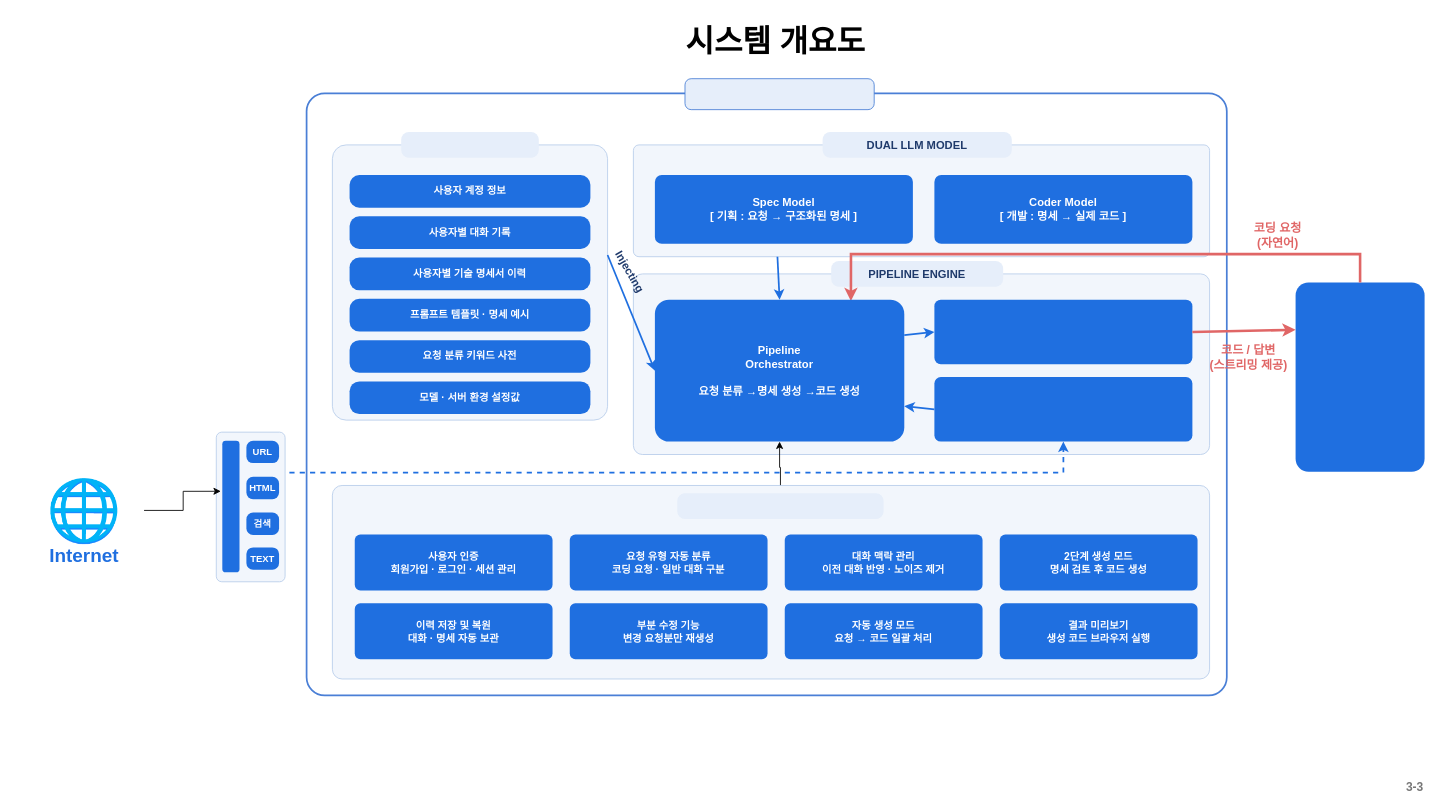
Image size: 1439x812. Some labels were removed from this diagram. The centre of each missing label's shape, as x and y in pixels:
"BASE DATA" belongs at (469,144).
"Code Stream (토큰 단위 실시간 응답)" belongs at (1063,331).
"External Context Input (외부 자료를 프롬프트에 주입)" belongs at (1063,409).
"SERVICE & EXTENSION" belongs at (780,506).
"Vibe Coding" belongs at (779,94).
"사용자 USER (브라우저)" belongs at (1359,376).
"실시간 수집 데이터" belongs at (230,506).
